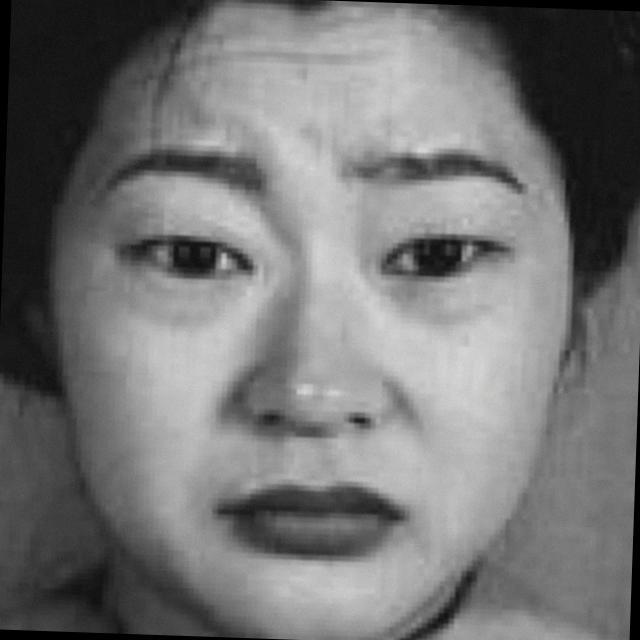fear: (40, 35, 558, 636)
